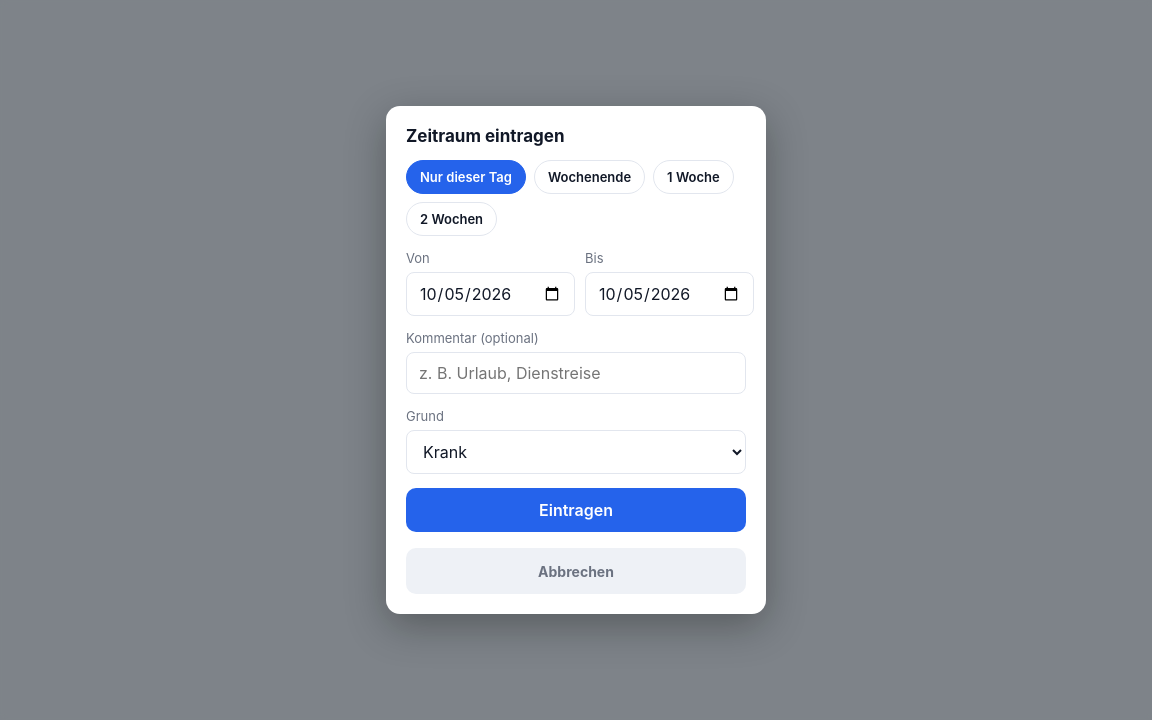
Test: AbsenceSheet – eintragen › ein Ende vor dem Anfang sperrt den Knopf und sagt es
This screenshot has width=1152, height=720.
Type "2026-10-01" into the date field labelled "Bis" at (670, 294), box [585,272,754,316]
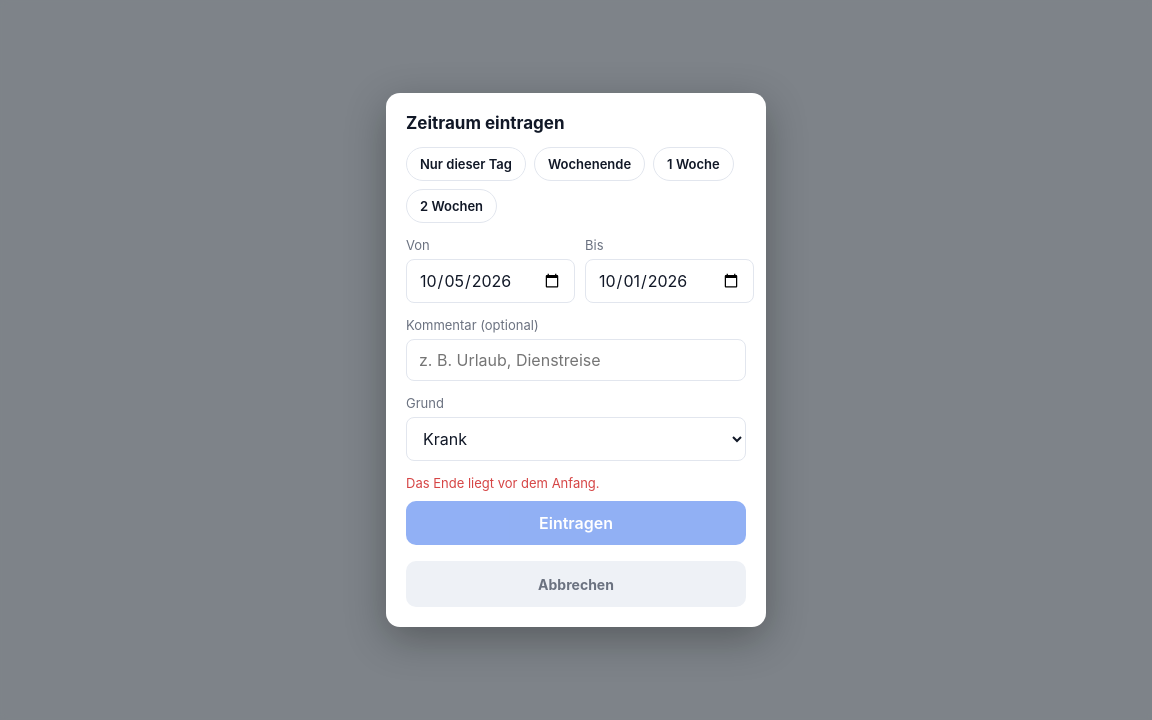
Now the text "Das Ende liegt vor dem Anfang." is shown, box [406,475,600,491]
Now the button "Eintragen" is disabled, box [406,501,746,545]
